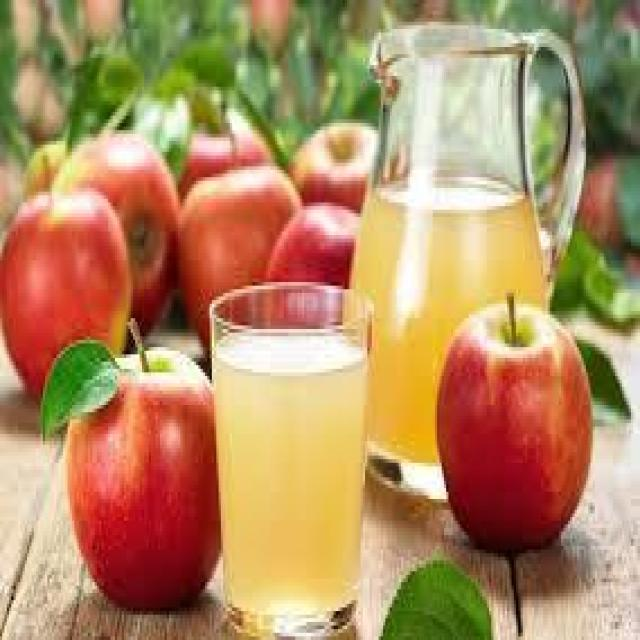maca: (63, 322, 221, 607), (435, 289, 593, 553)
